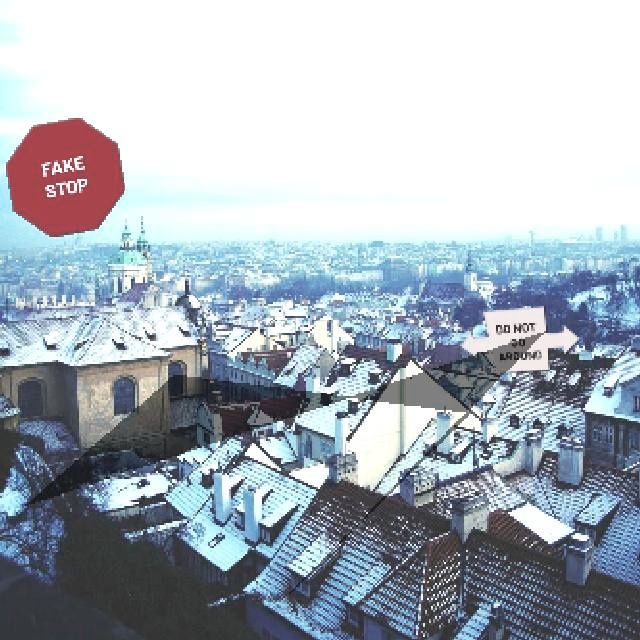DO_NOT_GO_AROUND: (458, 304, 579, 372)
FAKE_STOP: (3, 115, 124, 236)
